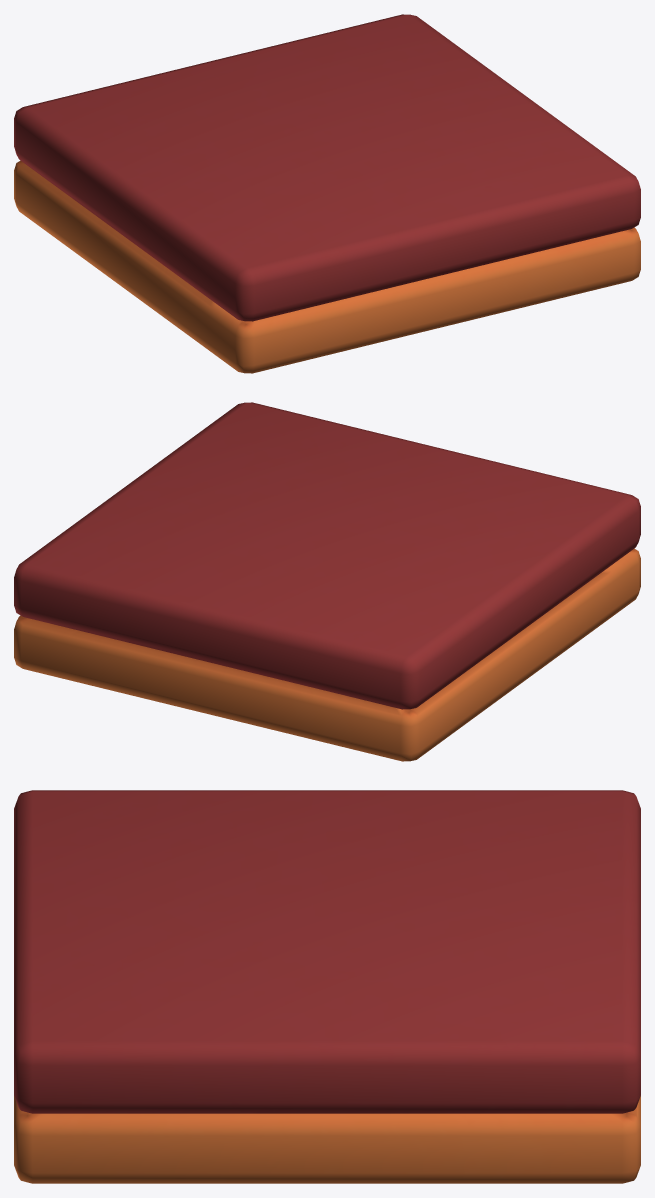
Rendered from DoubleMat.fbx.
The picture shows the model from 3 angles, top to bottom: view 1: azimuth 30°, elevation 25°; view 2: azimuth 150°, elevation 25°; view 3: azimuth 270°, elevation 25°; orthographic projection. The views are drawn at different scales.
Visible parts, largest first — view 1: DoubleMat; view 2: DoubleMat; view 3: DoubleMat.
Boxes of the visible parts, left/top/right/bottom form: DoubleMat: left=14, top=14, right=640, bottom=373; DoubleMat: left=14, top=402, right=640, bottom=761; DoubleMat: left=14, top=790, right=640, bottom=1183.
Bounding box in the file's own units: 800 × 199 × 800.
